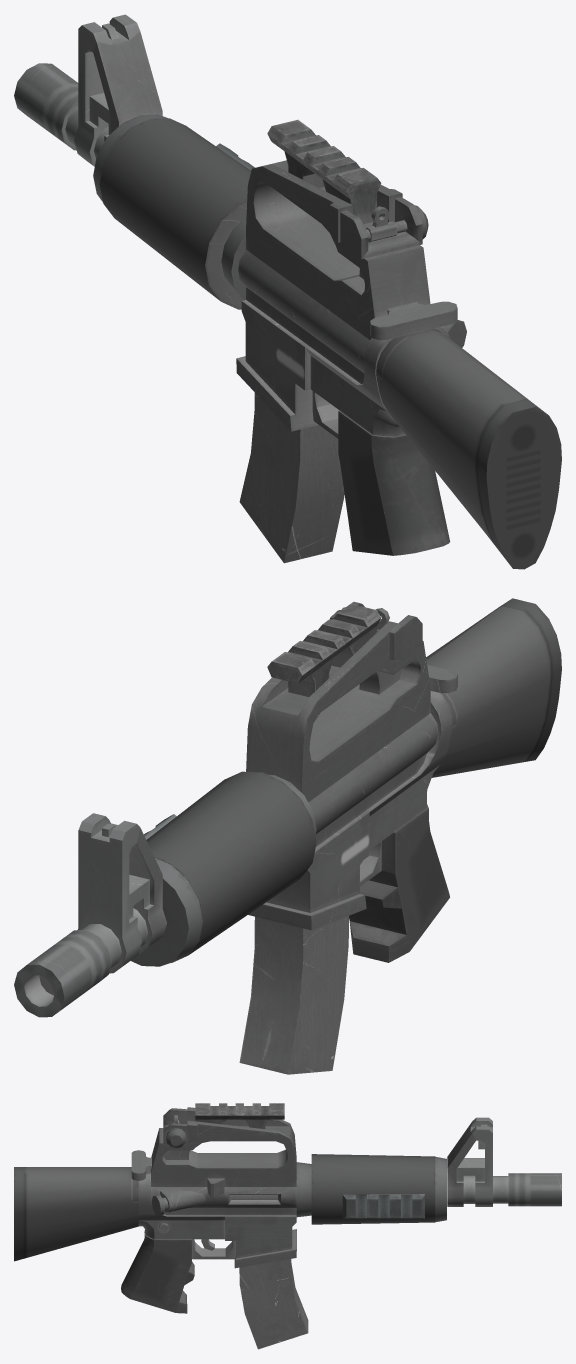
The model's file is IG_Gun_M16.fbx.
3 renders of one model, top to bottom at view 1: azimuth 30°, elevation 25°; view 2: azimuth 150°, elevation 25°; view 3: azimuth 270°, elevation 25°, orthographic. The views are drawn at different scales.
Parts seen in each view (by area): view 1: WPN_M16, HideIf_Stock, ShowIf_Scope, HideIf_Muzzle; view 2: WPN_M16, HideIf_Stock, HideIf_Muzzle, ShowIf_Scope; view 3: WPN_M16, HideIf_Stock, ShowIf_Tec, HideIf_Muzzle, ShowIf_Scope.
Part boxes in pixels (<box>): WPN_M16: <box>65,14,466,563</box>; HideIf_Stock: <box>376,328,561,569</box>; ShowIf_Scope: <box>267,119,381,224</box>; HideIf_Muzzle: <box>14,63,78,150</box>; WPN_M16: <box>78,602,457,1074</box>; HideIf_Stock: <box>426,598,561,777</box>; HideIf_Muzzle: <box>14,929,111,1017</box>; ShowIf_Scope: <box>267,604,381,696</box>; WPN_M16: <box>121,1107,508,1349</box>; HideIf_Stock: <box>14,1167,138,1261</box>; ShowIf_Tec: <box>342,1194,424,1218</box>; HideIf_Muzzle: <box>508,1173,561,1206</box>; ShowIf_Scope: <box>195,1103,284,1128</box>.
Size of the model in its own units: 0.17 by 0.5272 by 1.11.
